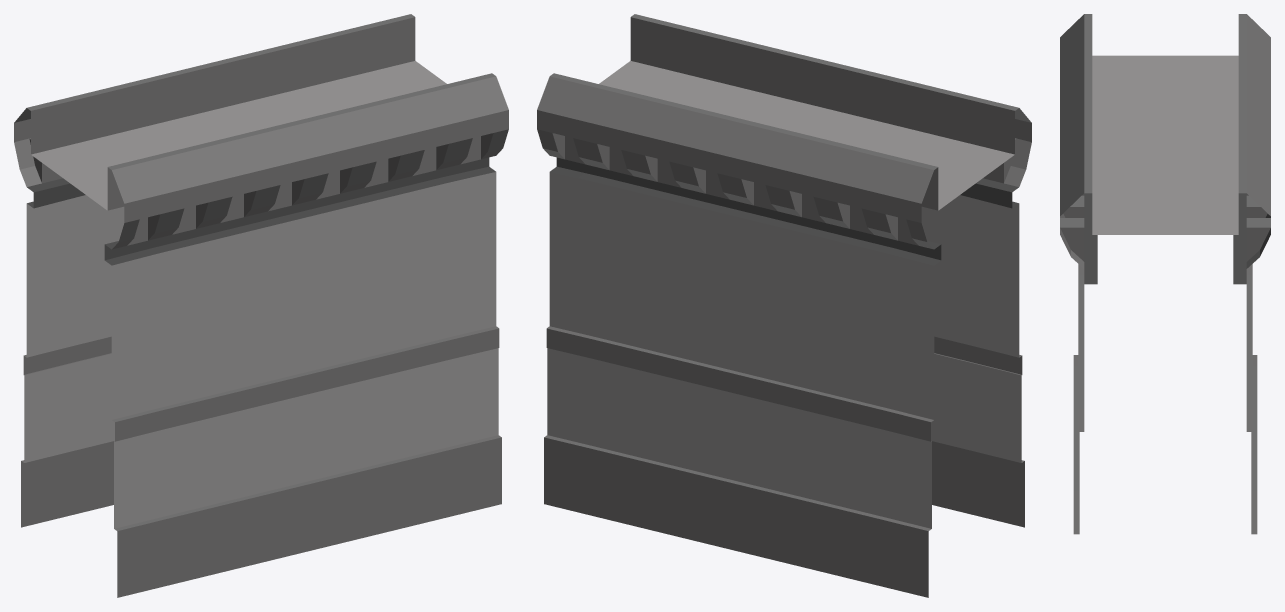
File: Modular_wall_Wall.fbx
3 renders of one model, left to right at view 1: azimuth 30°, elevation 25°; view 2: azimuth 150°, elevation 25°; view 3: azimuth 270°, elevation 25°, orthographic. The views are drawn at different scales.
Parts seen in each view (by area): view 1: Wall; view 2: Wall; view 3: Wall.
Part boxes in pixels (x1=…): Wall: x1=14, y1=14, x2=508, y2=597; Wall: x1=537, y1=14, x2=1031, y2=597; Wall: x1=1060, y1=14, x2=1270, y2=534.
Bounding box in the file's own units: 11.87 × 12.5 × 5.9.
1 material, 1 textured.
